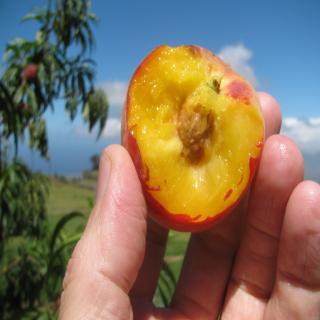Peach: (121, 43, 265, 234)
